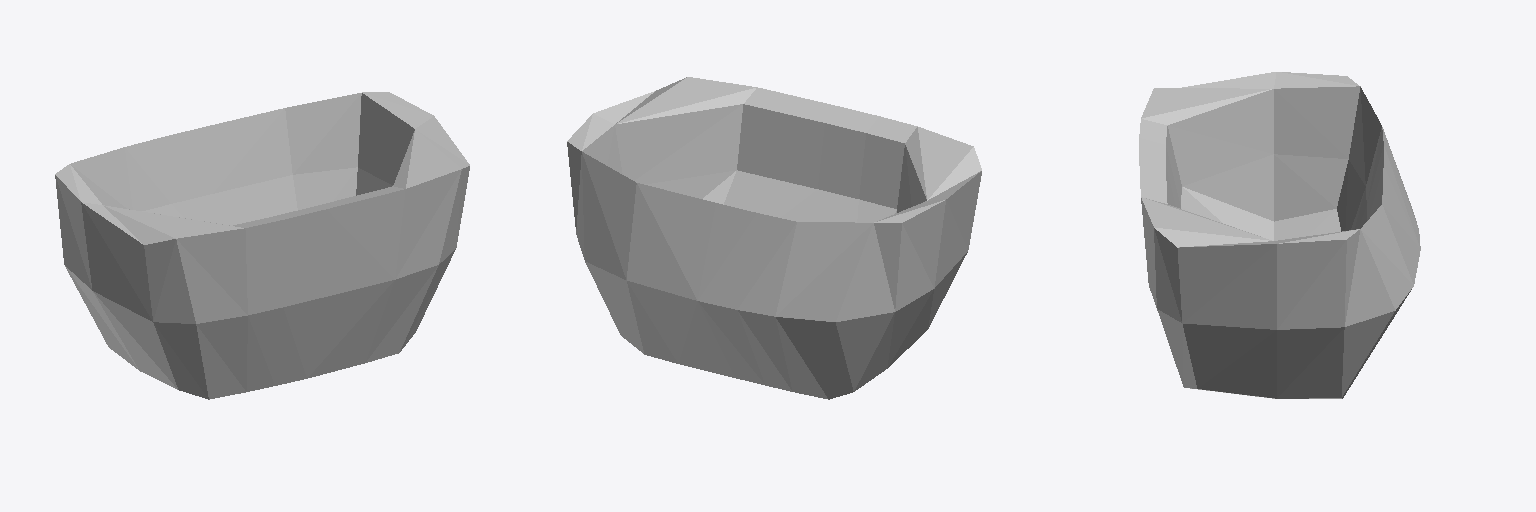
The model's file is plate.obj.
3 renders of one model, left to right at view 1: azimuth 30°, elevation 25°; view 2: azimuth 150°, elevation 25°; view 3: azimuth 270°, elevation 25°, orthographic.
Parts seen in each view (by area): view 1: plate; view 2: plate; view 3: plate.
Boxes of the visible parts, x1=… form: plate: x1=55, y1=92, x2=469, y2=399; plate: x1=567, y1=77, x2=981, y2=399; plate: x1=1139, y1=72, x2=1420, y2=398.
Size of the model in its own units: 2.48 by 1.32 by 1.72.